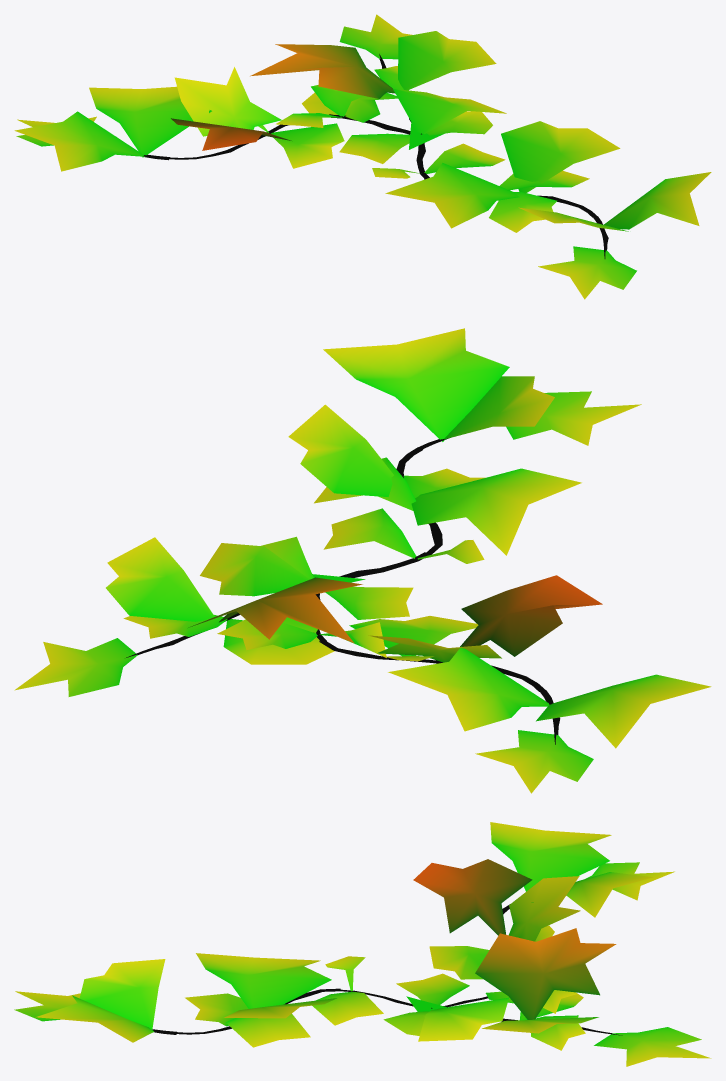
The model's file is Mile-a-minute Vine_LOD0_Var7_sfqns.fbx.
3 renders of one model, top to bottom at view 1: azimuth 30°, elevation 25°; view 2: azimuth 150°, elevation 25°; view 3: azimuth 270°, elevation 25°, orthographic. The views are drawn at different scales.
Parts seen in each view (by area): view 1: _f5b2_Var7_LOD0; view 2: _f5b2_Var7_LOD0; view 3: _f5b2_Var7_LOD0.
Boxes of the visible parts, x1=… form: _f5b2_Var7_LOD0: x1=14, y1=14, x2=711, y2=299; _f5b2_Var7_LOD0: x1=14, y1=328, x2=711, y2=793; _f5b2_Var7_LOD0: x1=14, y1=822, x2=711, y2=1066.
Size of the model in its own units: 30.42 by 3.21 by 38.29.
